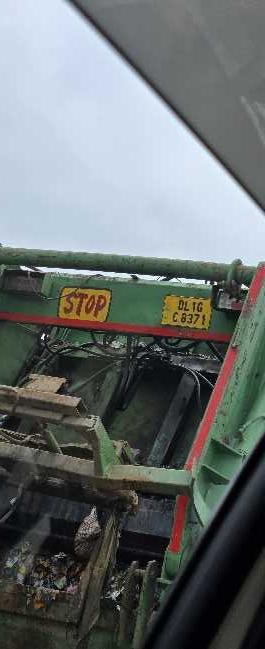License plate: (161, 295, 212, 329)
